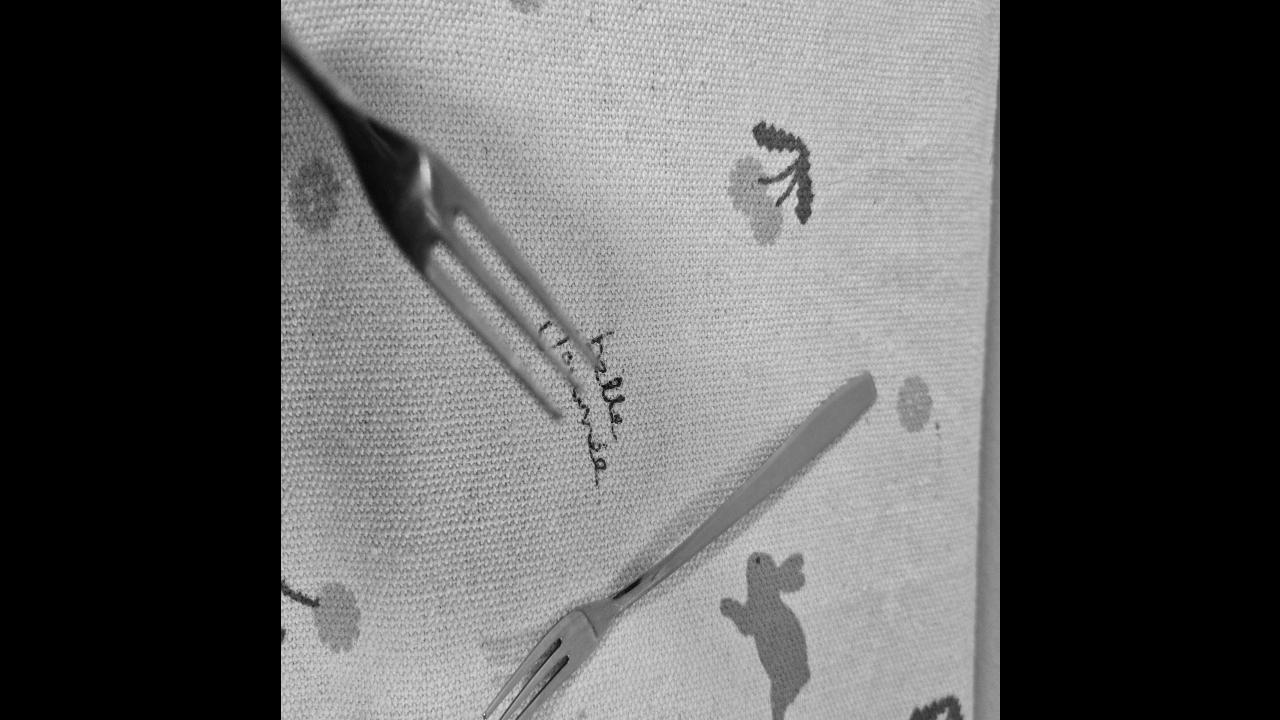fork: (484, 373, 875, 720), (284, 14, 603, 412)
